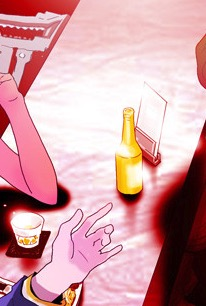bottle: (110, 104, 147, 197)
cup: (6, 208, 48, 249)
